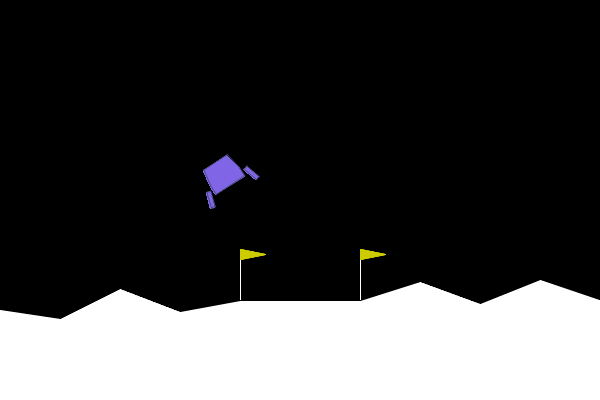lander: (189, 144, 261, 211)
